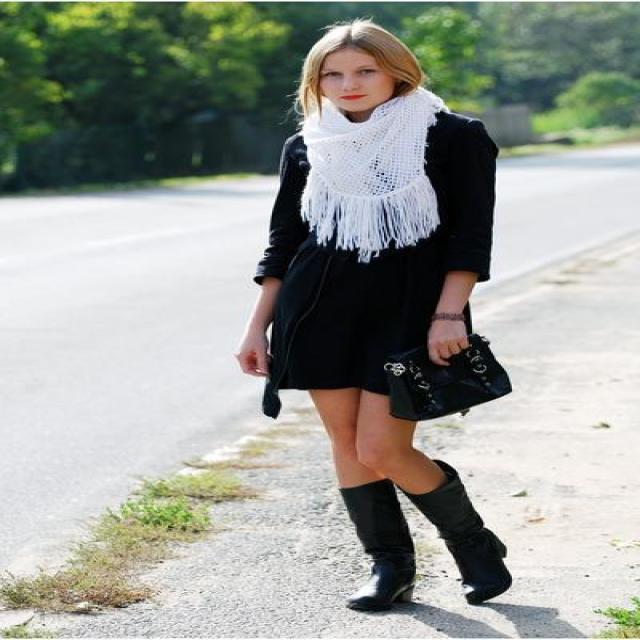bag: (389, 320, 510, 420)
dress: (255, 111, 498, 418)
shoe: (340, 460, 510, 612)
